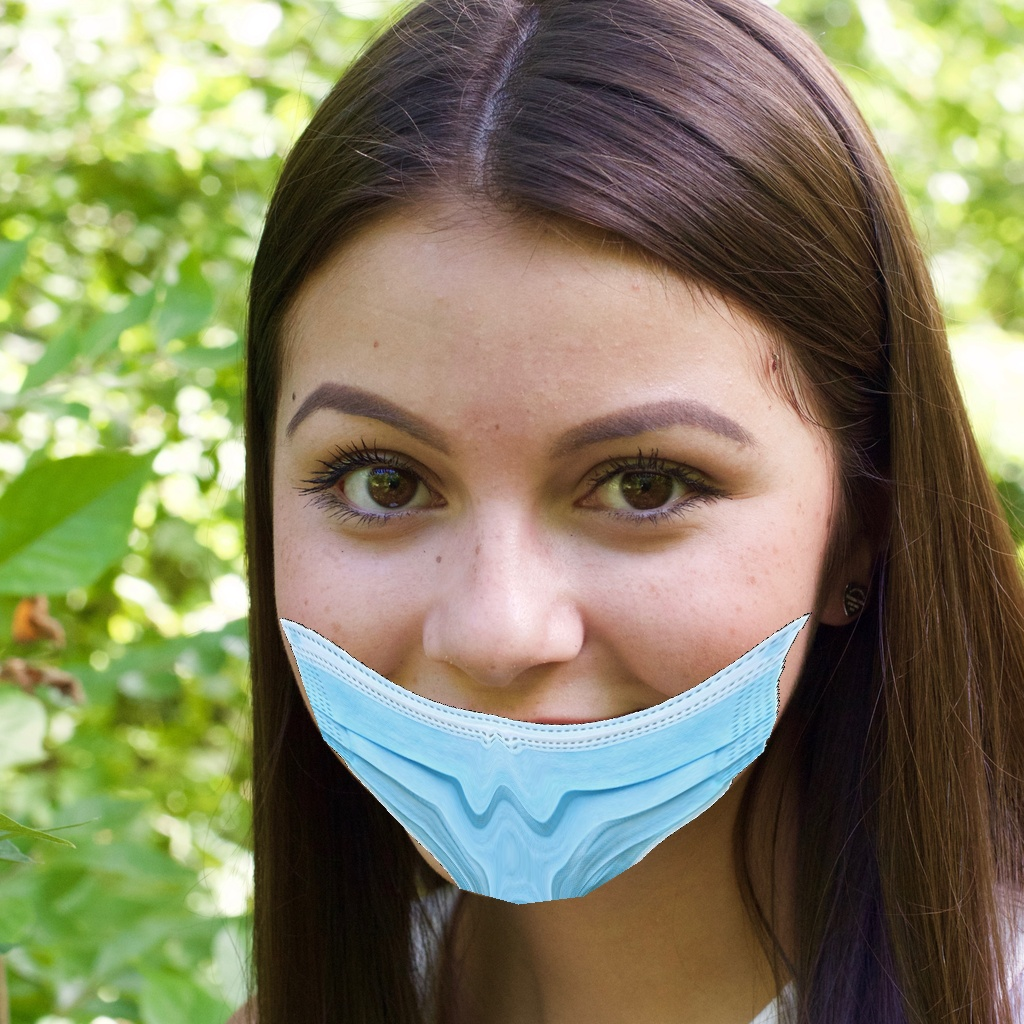mask_weared_incorrect: (235, 317, 859, 935)
